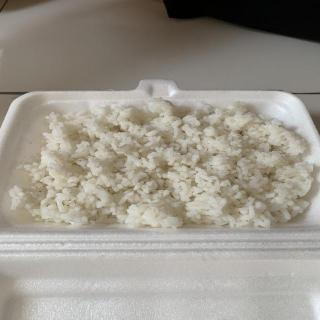Nasi: (14, 104, 316, 225)
